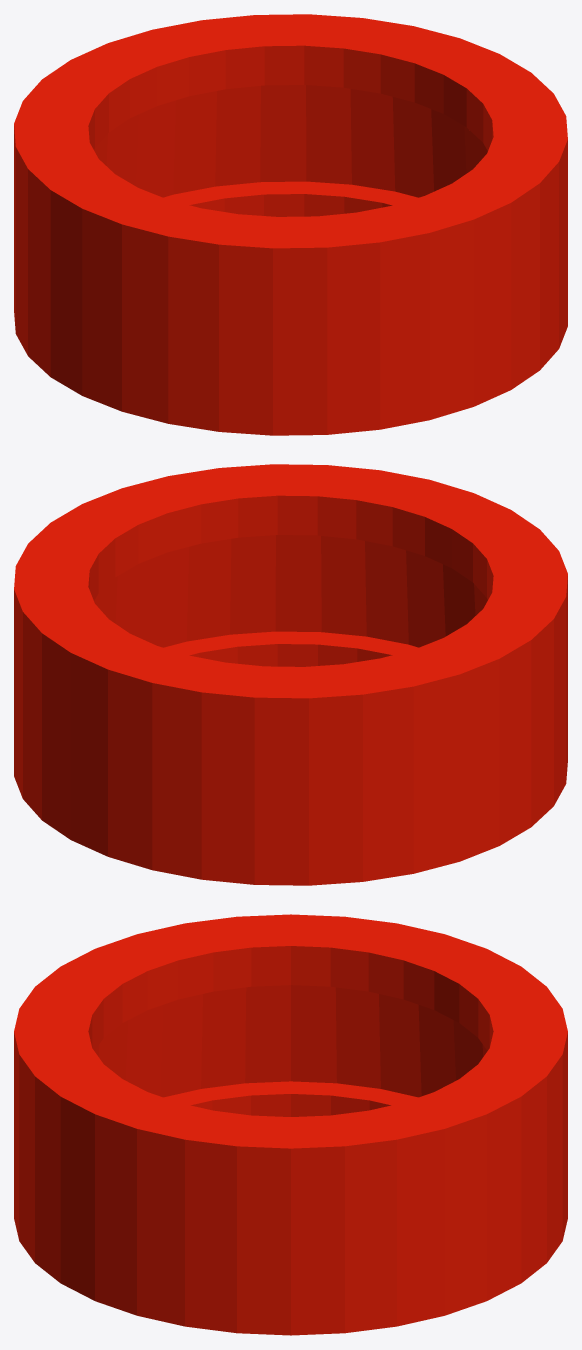
The model's file is pneuvermelho.fbx.
3 views of the same model, one above another, from view 1: azimuth 30°, elevation 25°; view 2: azimuth 150°, elevation 25°; view 3: azimuth 270°, elevation 25° (orthographic).
Parts seen in each view (by area): view 1: Cilindro; view 2: Cilindro; view 3: Cilindro.
Part boxes in pixels (x1,y1,x2,y2): Cilindro: (14,14,567,435); Cilindro: (14,464,567,885); Cilindro: (14,914,567,1335).
Size of the model in its own units: 200 by 74.45 by 200.
